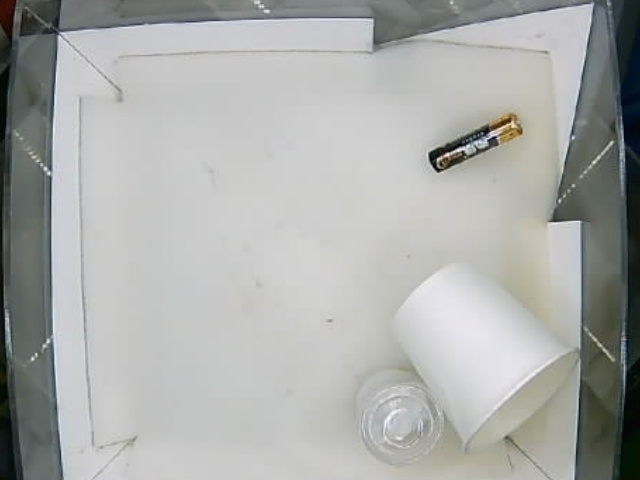Battery: (427, 116, 522, 170)
Bottle: (355, 364, 445, 461)
Cup: (395, 260, 575, 454)
